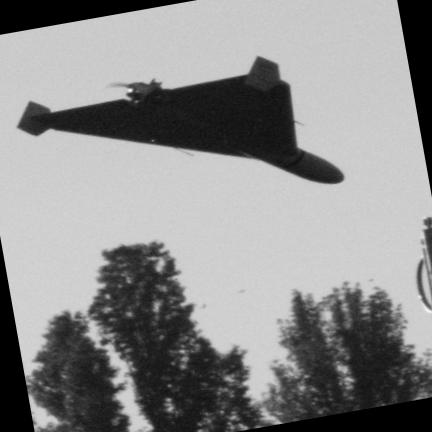Shahed: (18, 57, 343, 183)
